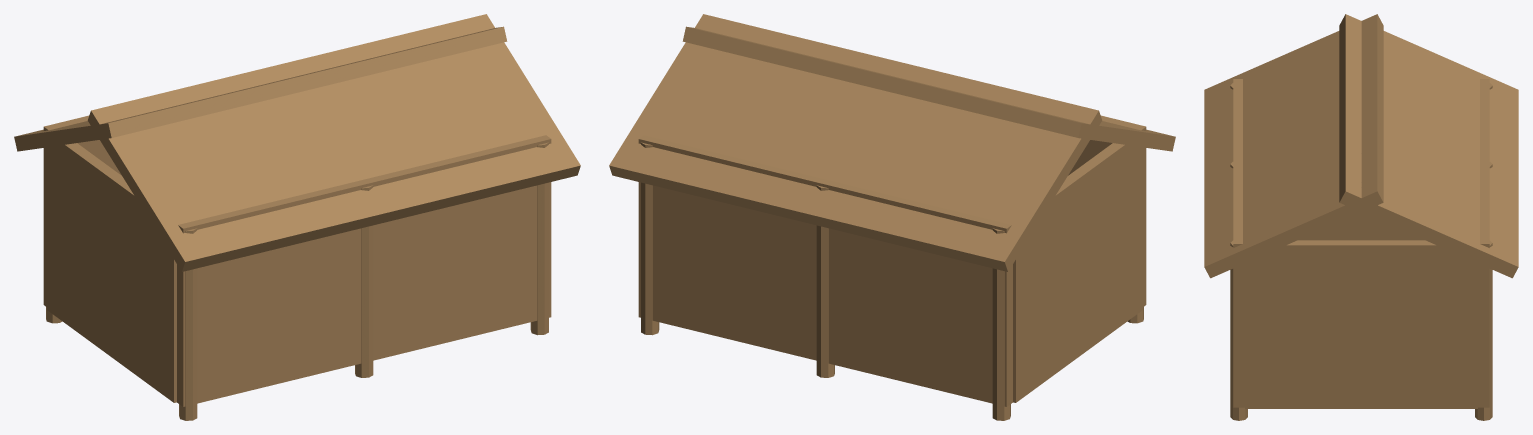
File: StarterBuilding_Default.fbx
3 renders of one model, left to right at view 1: azimuth 30°, elevation 25°; view 2: azimuth 150°, elevation 25°; view 3: azimuth 270°, elevation 25°, orthographic. The views are drawn at different scales.
Parts seen in each view (by area): view 1: StarterBuilding_Default; view 2: StarterBuilding_Default; view 3: StarterBuilding_Default.
Part boxes in pixels (x1,y1,x2,y2): StarterBuilding_Default: (14, 14, 580, 420); StarterBuilding_Default: (609, 14, 1175, 420); StarterBuilding_Default: (1204, 14, 1518, 420).
Size of the model in its own units: 3.6 by 2.23 by 2.7.
